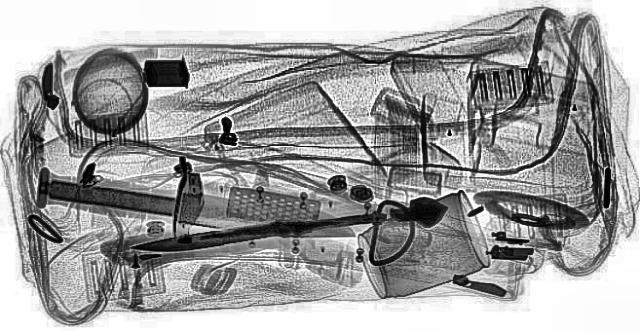Knife: (33, 172, 364, 246), (127, 206, 389, 254)
